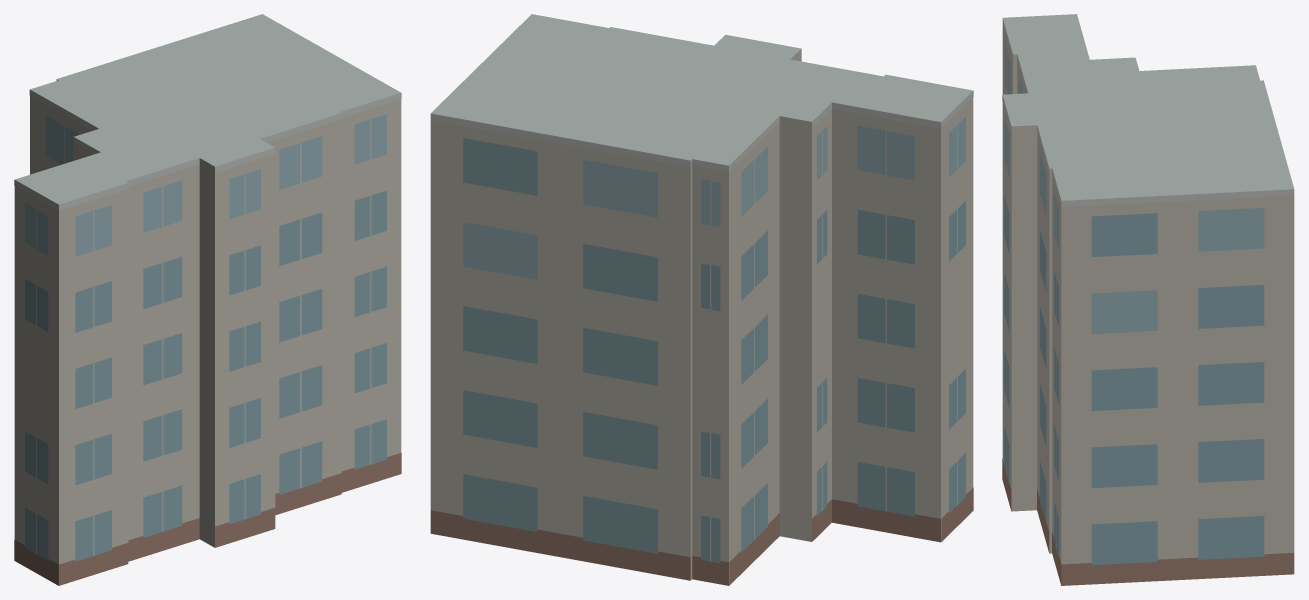
File: survey-upis-32627918.glb
The picture shows the model from 3 angles, left to right: view 1: azimuth 30°, elevation 25°; view 2: azimuth 150°, elevation 25°; view 3: azimuth 270°, elevation 25°; orthographic projection. The views are drawn at different scales.
Parts seen in each view (by area): view 1: survey-upis-32627918.tmp; view 2: survey-upis-32627918.tmp; view 3: survey-upis-32627918.tmp.
Part boxes in pixels (x1,y1,x2,y2): survey-upis-32627918.tmp: (14, 14, 401, 585); survey-upis-32627918.tmp: (430, 14, 973, 585); survey-upis-32627918.tmp: (1002, 14, 1294, 585).
Size of the model in its own units: 15.41 by 14.8 by 10.18.
